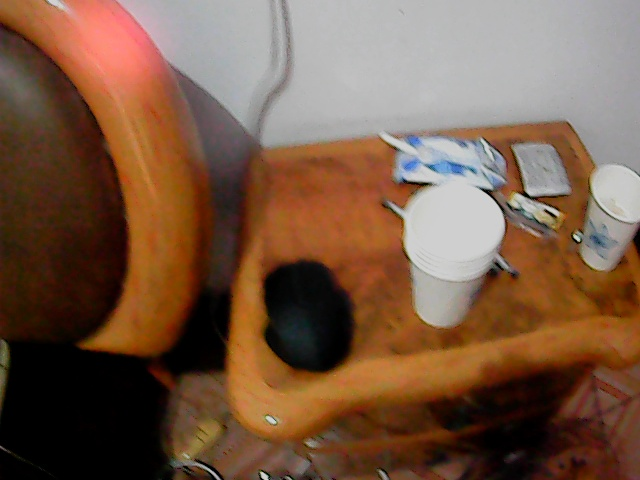cup: (402, 174, 507, 332)
mouse: (257, 254, 356, 379)
